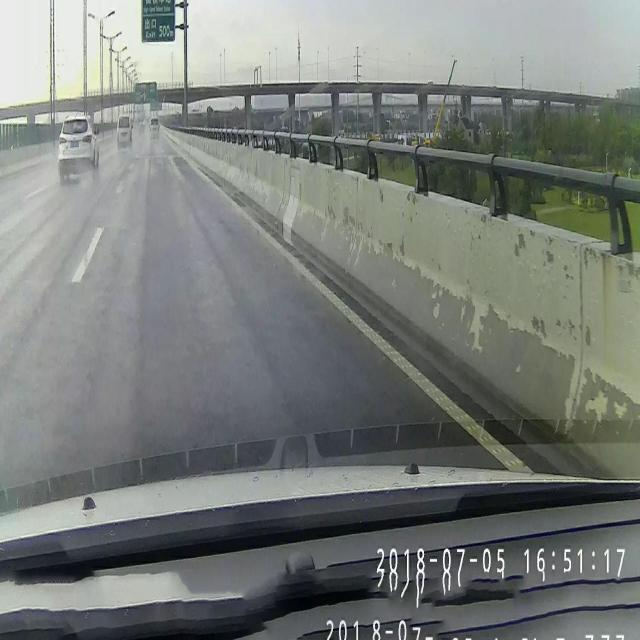car: (58, 118, 100, 180), (115, 113, 133, 148), (149, 119, 159, 140)
